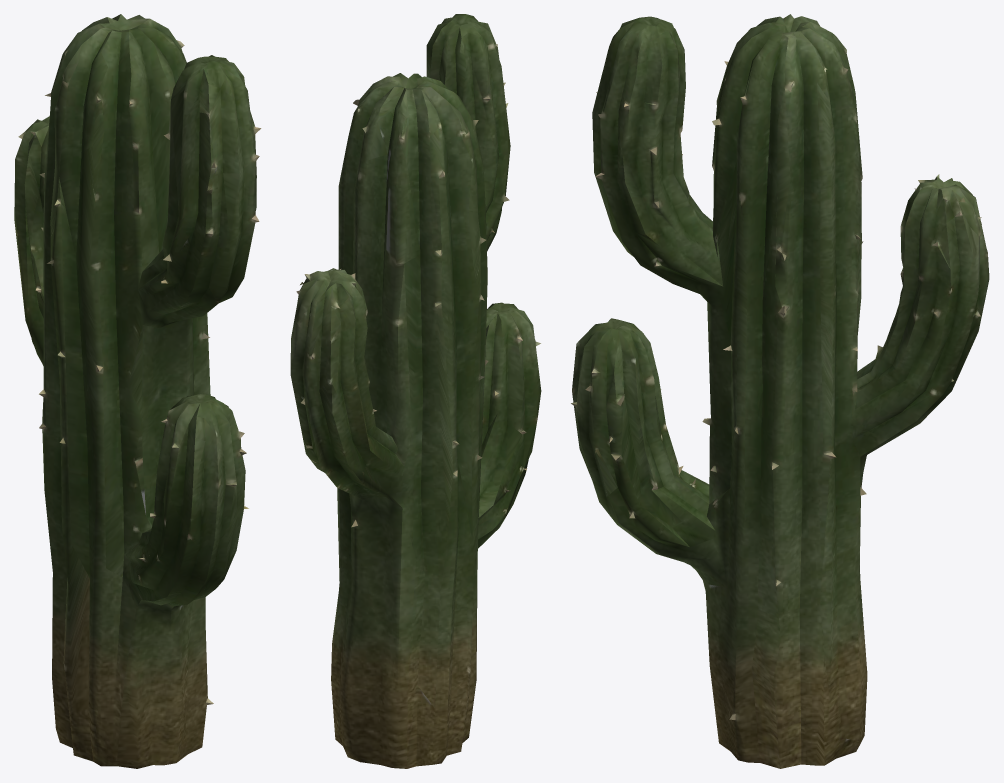
3 renders of one model, left to right at view 1: azimuth 30°, elevation 25°; view 2: azimuth 150°, elevation 25°; view 3: azimuth 270°, elevation 25°, orthographic. The views are drawn at different scales.
Visible parts, largest first — view 1: desert-cactus.001; view 2: desert-cactus.001; view 3: desert-cactus.001.
Part boxes in pixels (x1,y1,x2,y2): desert-cactus.001: [14, 14, 261, 768]; desert-cactus.001: [290, 14, 541, 768]; desert-cactus.001: [571, 14, 989, 768].
Size of the model in its own units: 0.5354 by 2.4 by 1.26.
1 material, 1 textured.
